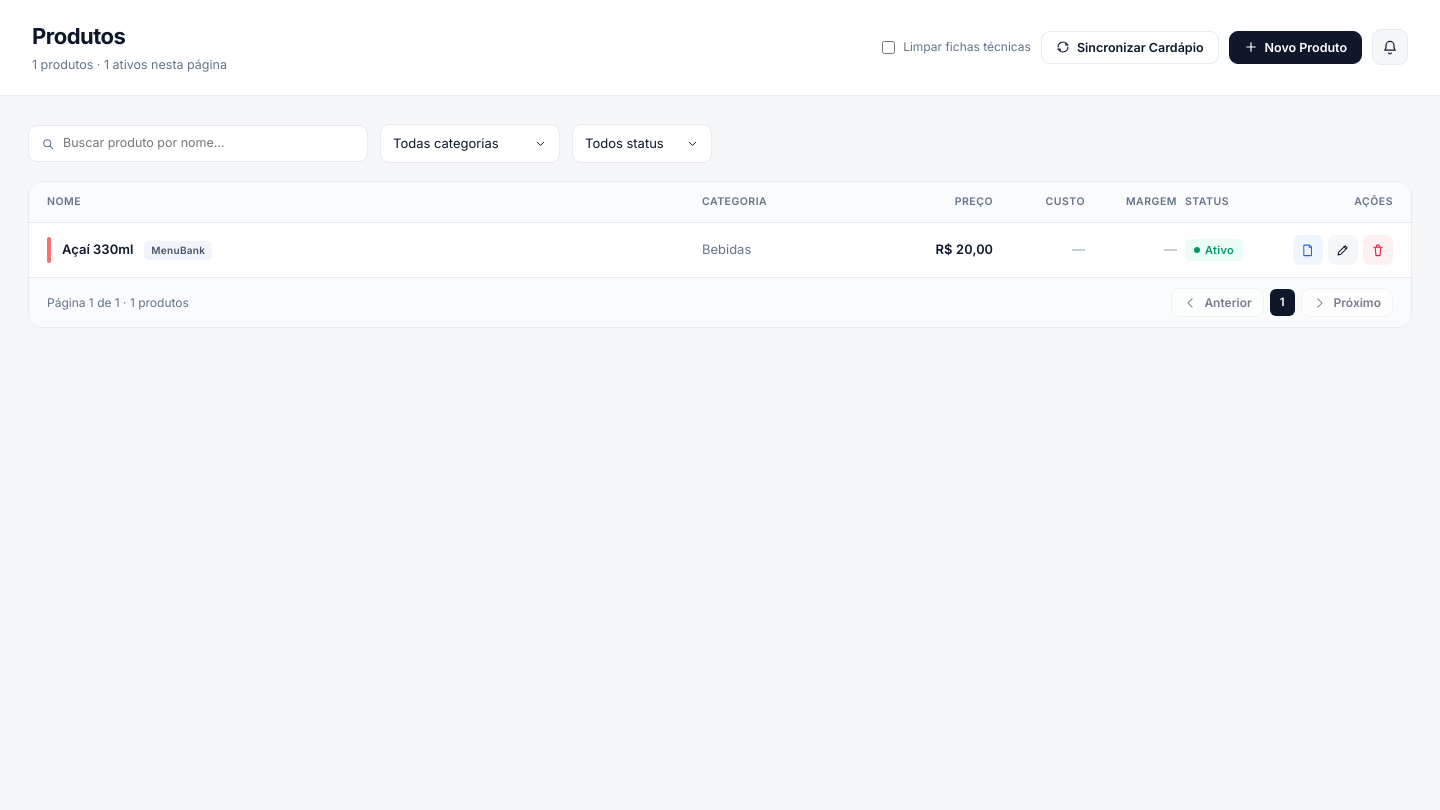
Test case: ProductsView › should render grouped sections even when there are only PACKAGING items
The width and height of the screenshot is (1440, 810).
What coordinates should you click on to do the following:
click the element with test id "product-p1-recipe-button"
I would click on:
 (1308, 250)
Its box is [1293, 235, 1323, 265].
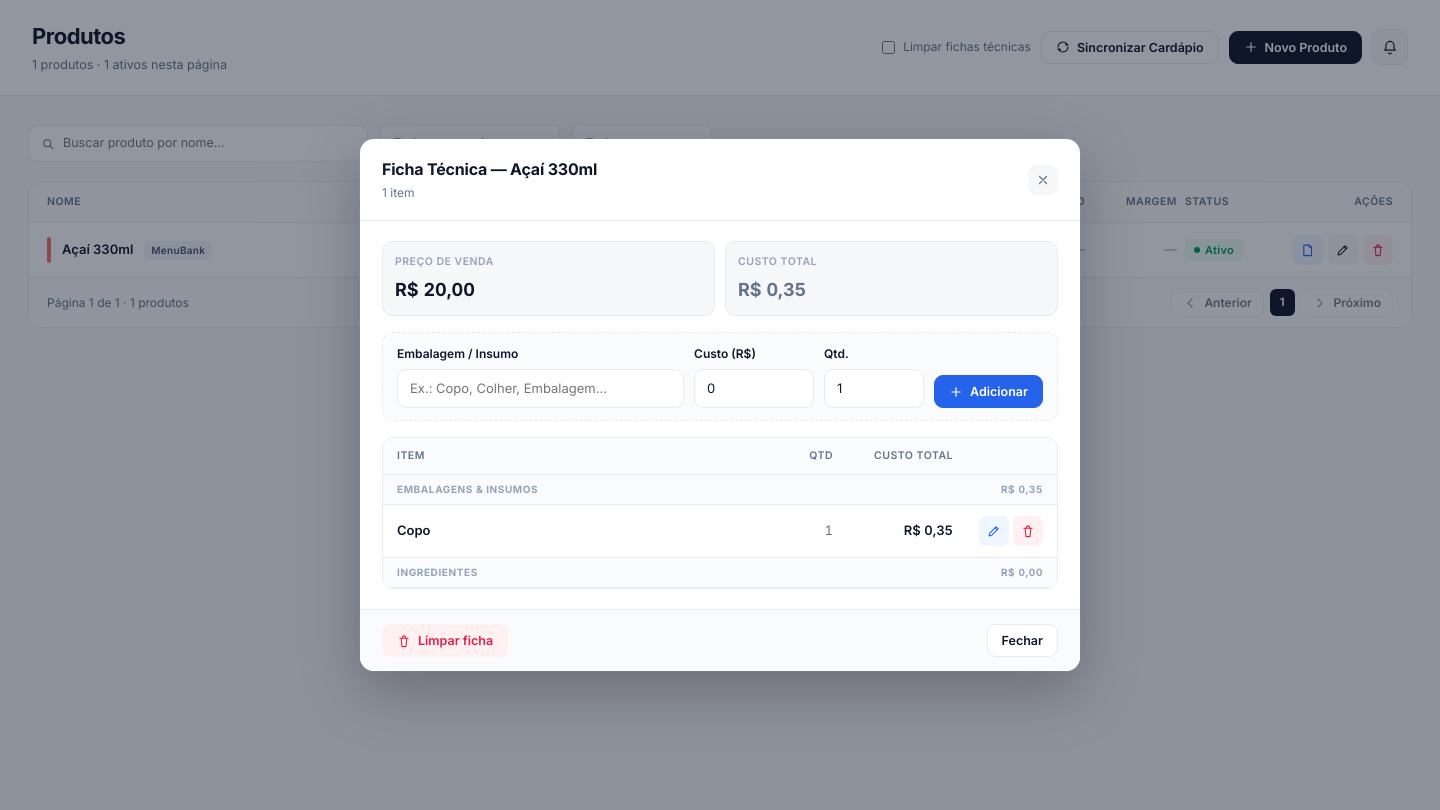
Expected: the text "Embalagens" is shown, [397, 483, 538, 495]
Expected: the text "Copo" is shown, [397, 522, 430, 538]
